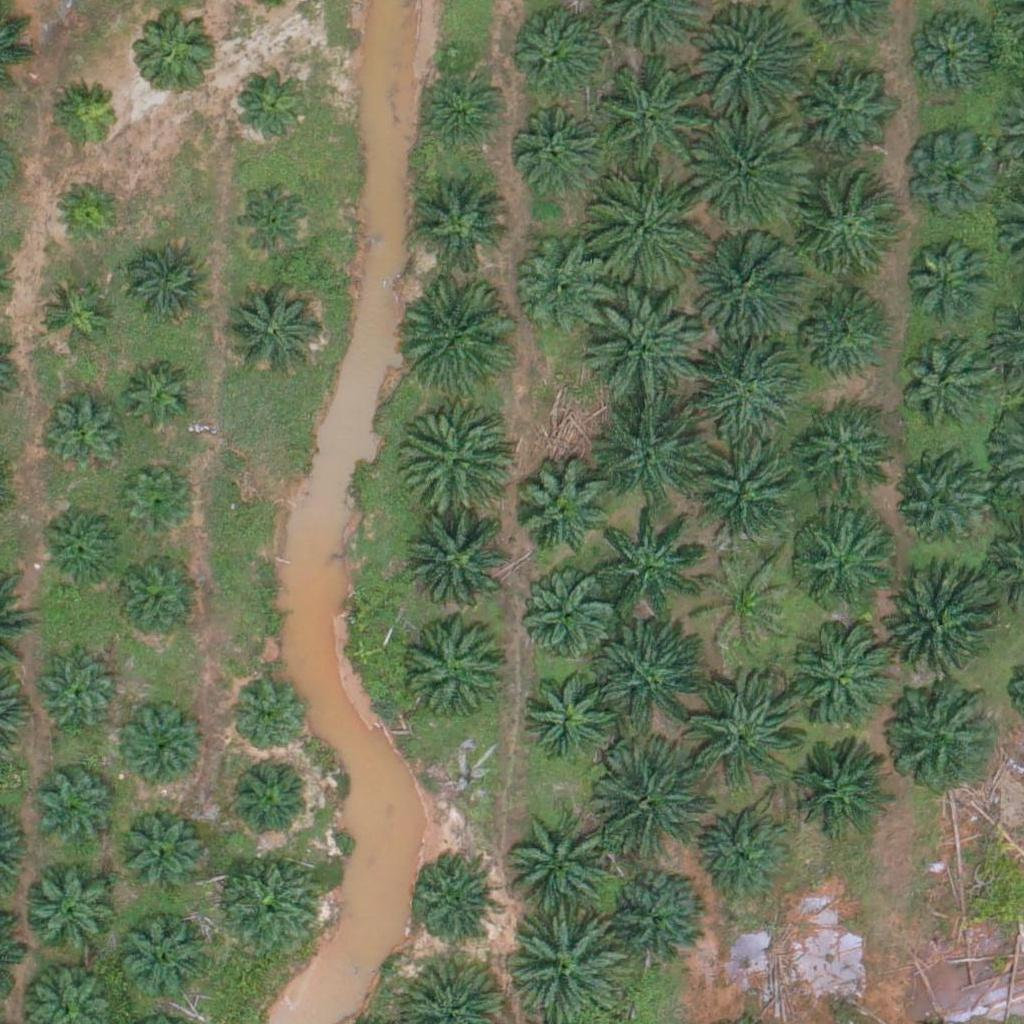Kelapa_Sawit: (594, 745, 707, 859), (401, 276, 514, 390), (881, 570, 994, 683), (595, 619, 708, 732), (585, 293, 698, 406), (397, 400, 510, 513), (694, 114, 807, 227), (694, 3, 807, 116), (593, 174, 706, 287), (789, 620, 901, 734), (690, 331, 802, 445), (691, 444, 803, 558), (404, 509, 516, 623), (698, 228, 810, 342), (883, 686, 995, 799), (687, 675, 799, 788), (592, 506, 704, 619), (596, 391, 708, 504), (508, 799, 620, 912), (792, 179, 904, 292), (598, 59, 710, 172), (888, 452, 988, 553), (697, 548, 797, 649), (604, 866, 704, 967), (514, 566, 614, 667), (518, 662, 618, 763), (407, 618, 507, 719), (222, 282, 322, 383), (220, 851, 320, 952), (112, 912, 212, 1013), (901, 127, 1001, 228), (793, 67, 893, 168), (409, 173, 509, 274), (790, 739, 890, 839), (794, 410, 894, 510), (787, 511, 887, 611), (693, 812, 793, 912), (511, 459, 611, 559), (26, 862, 126, 962), (902, 6, 1002, 106), (514, 236, 614, 336), (510, 95, 610, 195), (39, 388, 127, 477), (231, 176, 319, 265), (899, 339, 987, 427), (796, 293, 884, 381), (109, 555, 197, 643), (32, 765, 120, 853), (902, 236, 990, 324), (131, 2, 219, 90), (125, 241, 213, 329), (408, 852, 495, 940), (38, 503, 125, 591), (31, 651, 118, 739), (120, 708, 207, 796), (227, 754, 314, 842), (116, 803, 203, 891), (229, 58, 316, 146), (416, 61, 503, 149), (121, 468, 196, 544), (230, 681, 305, 757), (51, 79, 126, 154), (36, 279, 111, 354), (124, 363, 199, 438), (51, 175, 126, 250)
